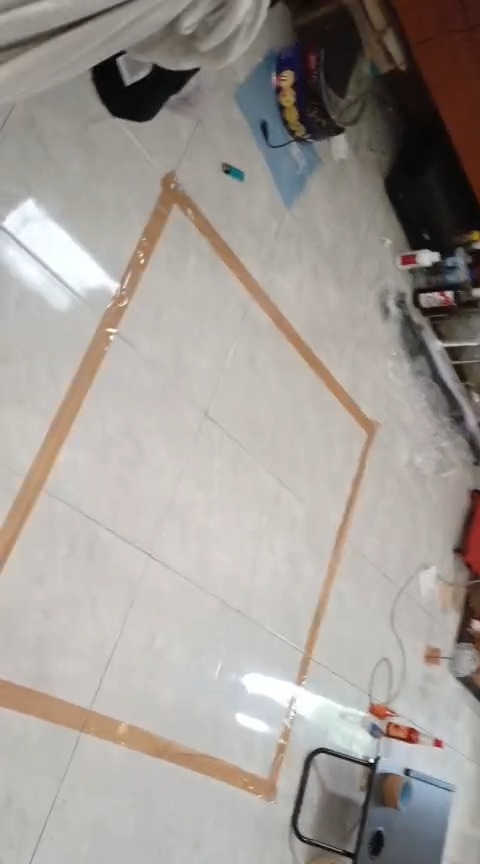floor marking: (0, 172, 374, 683), (0, 679, 291, 800)
